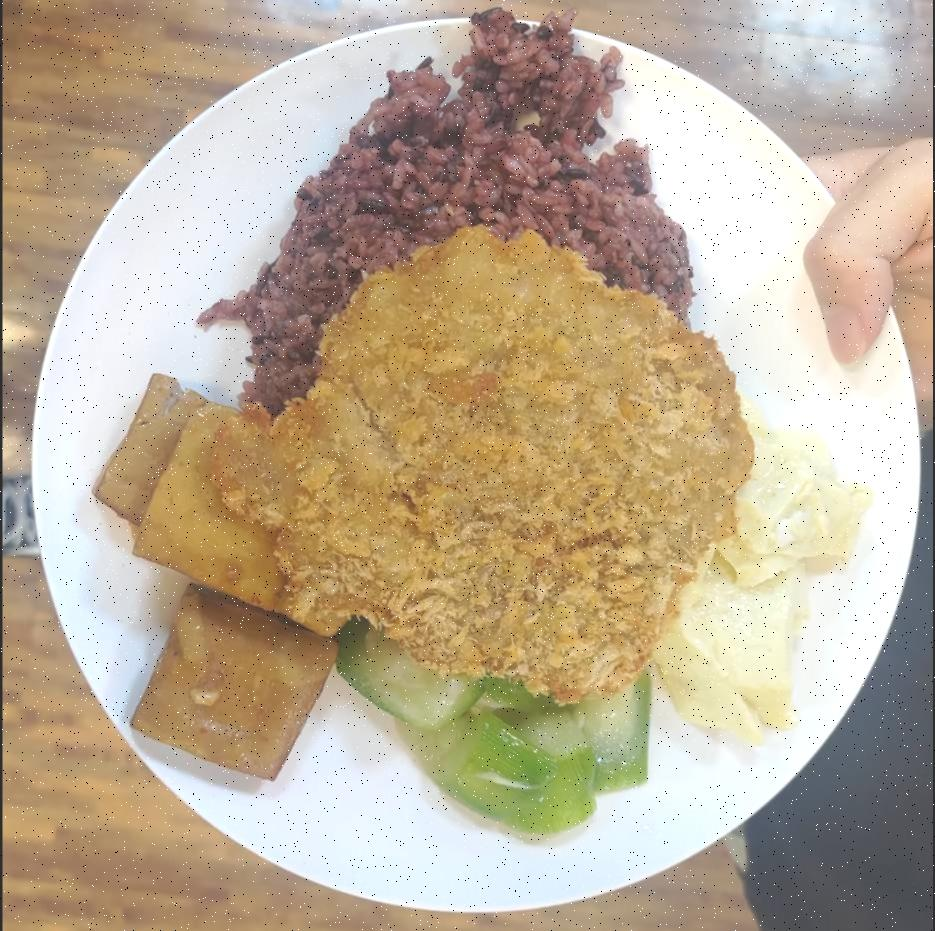big fried chicken leg: (44, 10, 914, 918)
braised fish: (194, 18, 708, 399)
braised fish fillet: (98, 358, 344, 792), (337, 595, 663, 840), (648, 411, 880, 742)
braised pork: (204, 220, 762, 708)
